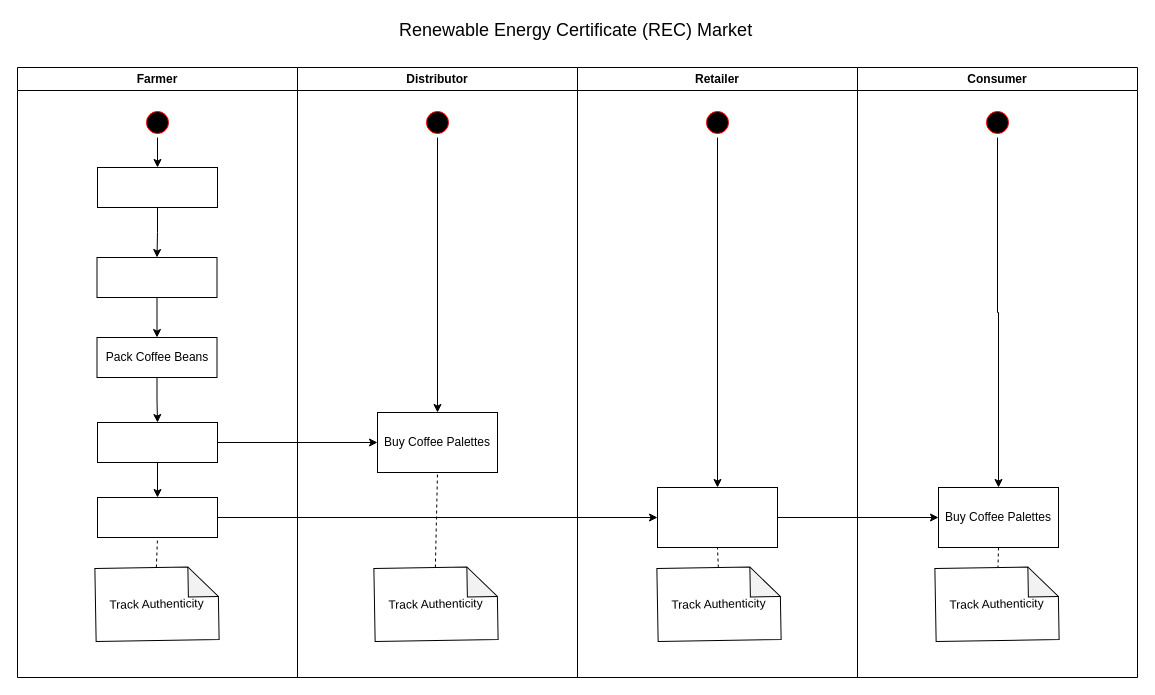
Image size: 1155x695. Some labels were removed from this diagram. Here are the shapes that lost their labels. From the top down, the centre of each, then its label:
At pixel 157 187: "Harvest Coffee Beans".
At pixel 156 277: "Process Coffee Beans".
At pixel 157 442: "Add Coffee Beans to Palettes".
At pixel 157 517: "Ship Palettes".
At pixel 717 517: "Receive Coffee Palettes".
